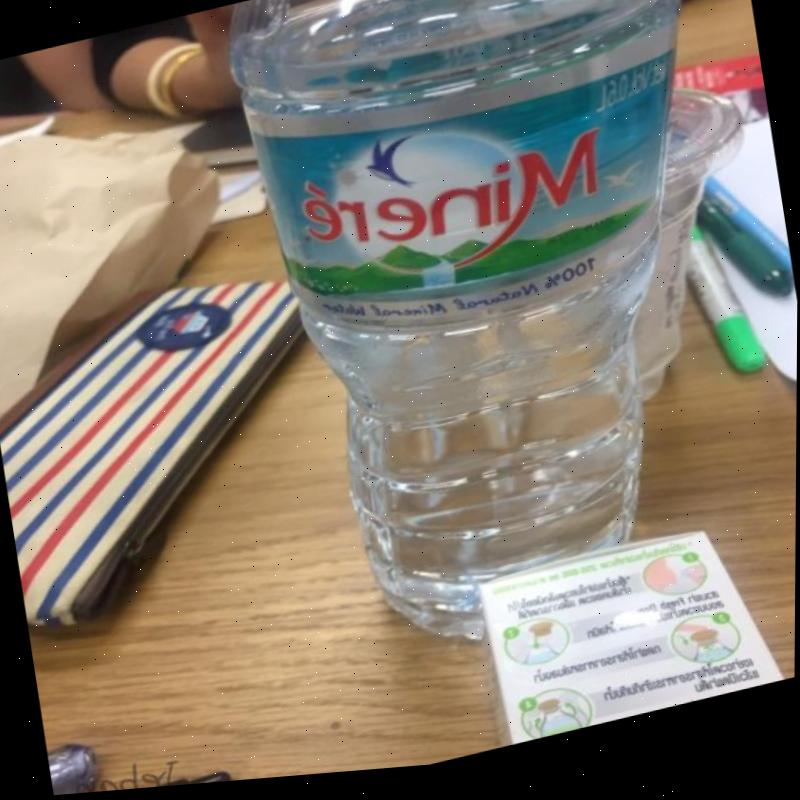botella: (217, 0, 783, 687)
